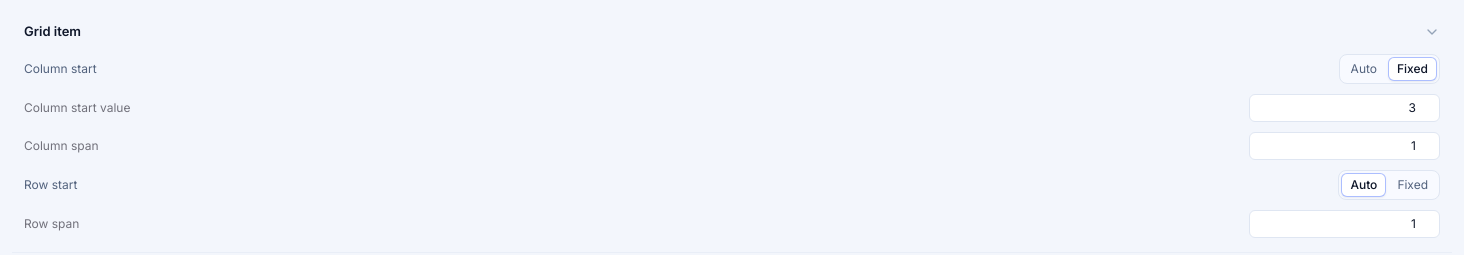
Test: InspectorGridChildSection › switching Column start back to Auto clears the fixed value and hides the field
This screenshot has width=1464, height=255.
What coordinates should you click on to do the following:
click the 1st button "Auto"
I would click on:
 (1364, 68)
Its box is 1342,56 -> 1386,80.
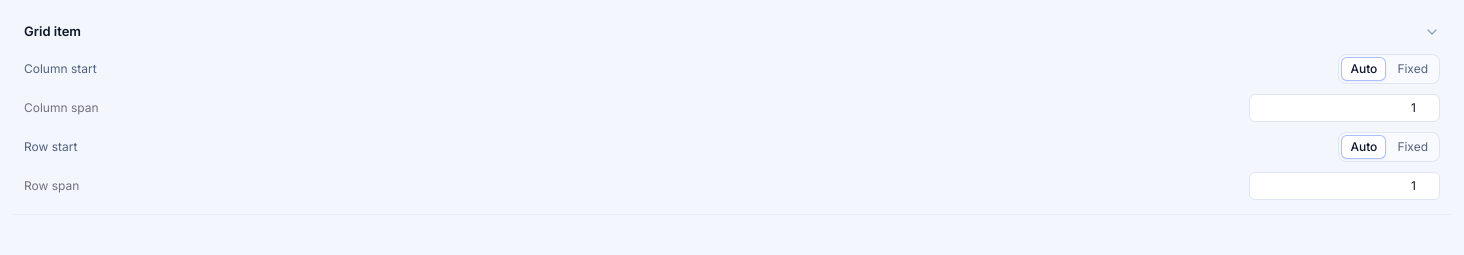
Now the label labelled "Column start value" is gone
